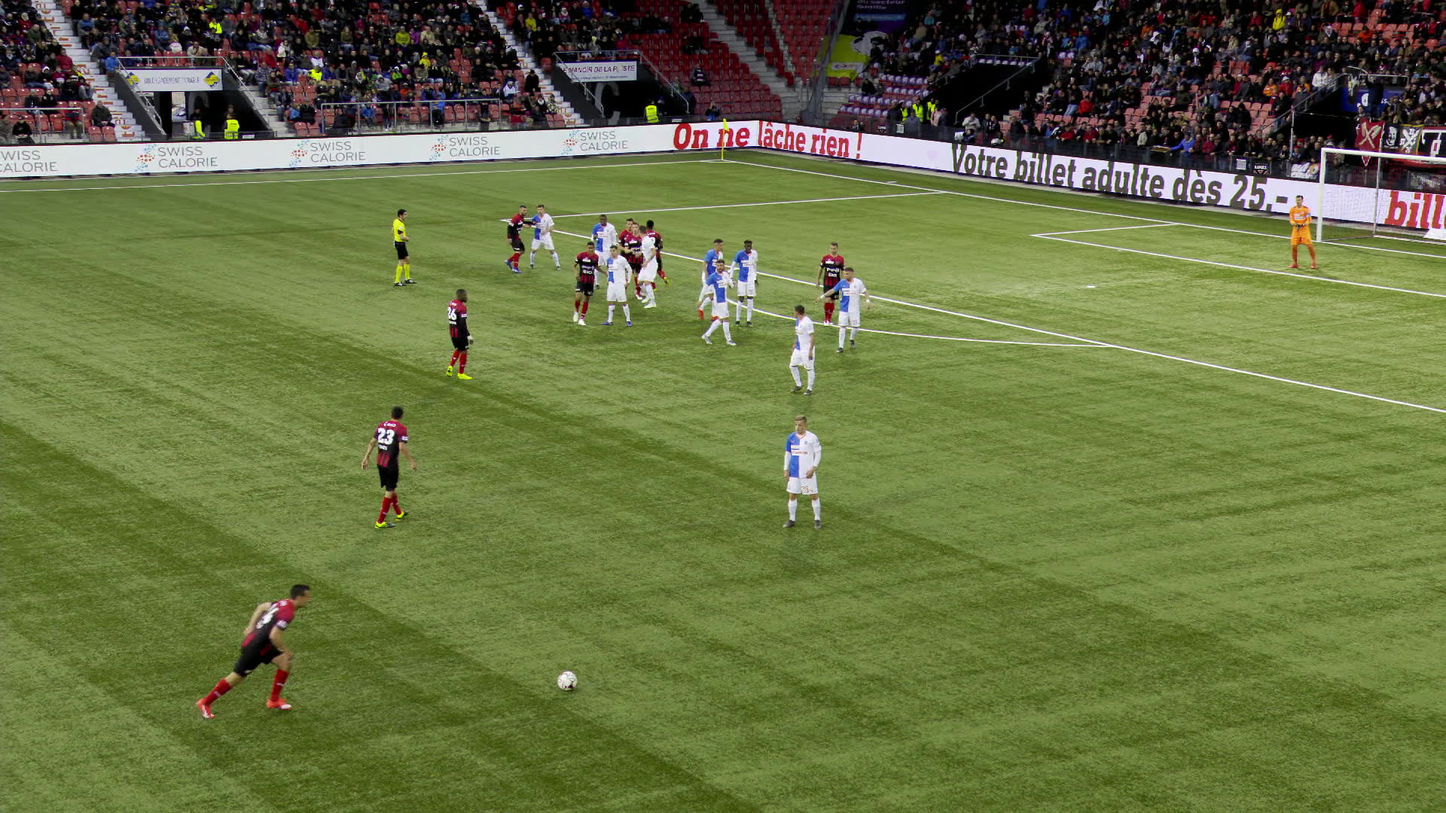ball: (554, 671, 578, 693)
player: (192, 582, 307, 720), (361, 403, 416, 530), (780, 416, 825, 531), (814, 267, 871, 355), (569, 239, 608, 327), (700, 260, 736, 348), (442, 286, 474, 382), (727, 239, 760, 330), (786, 306, 816, 397), (815, 242, 844, 327), (694, 239, 723, 324), (502, 202, 535, 276), (1285, 195, 1317, 269), (527, 201, 560, 271), (603, 247, 631, 329), (643, 218, 670, 293), (591, 214, 618, 289), (638, 221, 660, 310), (621, 219, 641, 300), (626, 215, 642, 291)
referee: (389, 209, 413, 289)
